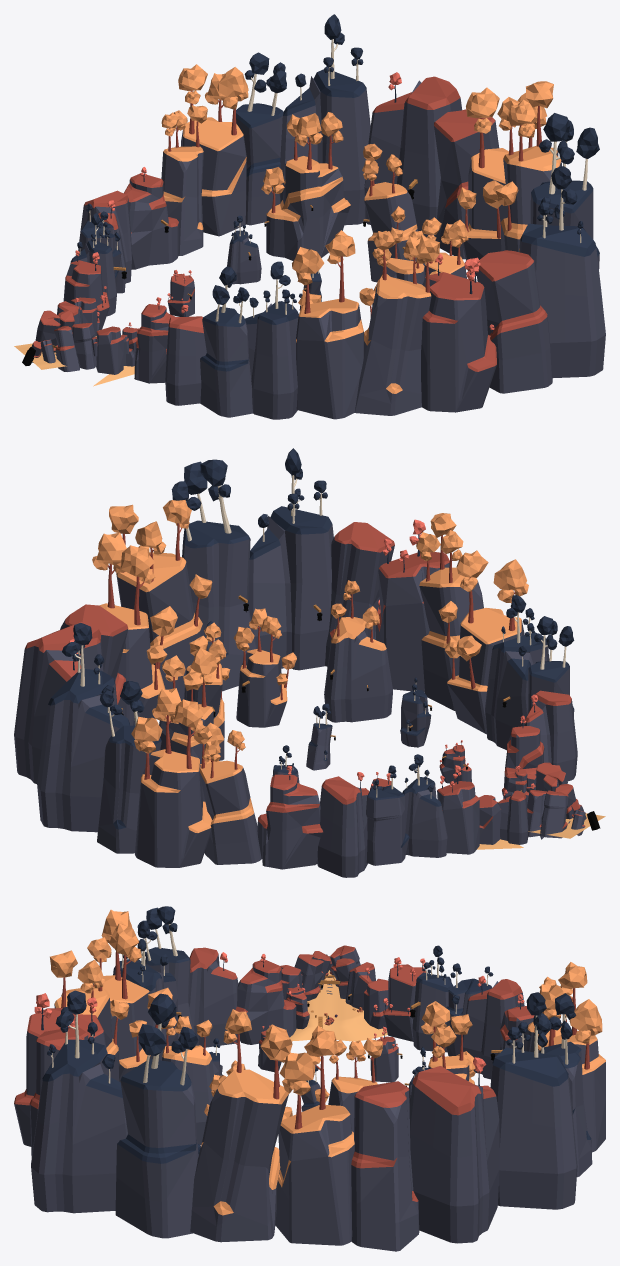
Rendered from beachside 1.fbx.
The picture shows the model from 3 angles, top to bottom: view 1: azimuth 30°, elevation 25°; view 2: azimuth 150°, elevation 25°; view 3: azimuth 270°, elevation 25°; orthographic projection. The views are drawn at different scales.
Visible parts, largest first — view 1: Middle3.002, rock_lp_09.004, Inner1.002, Outer1.001, rock_lp_08.001, rock_lp_09.005, Middle3.003, rock_lp_11.002, Outer1.003, Middle3.001, Middle2.001, Outer1.002 (+23 smaller); view 2: Middle3.002, Middle3.003, Outer1.003, Middle2.002, rock_lp_09.006, Outer1.001, Outer2, rock_lp_09.004, Inner1.002, Outer1.002, rock_lp_11.002, rock_lp_09.008 (+23 smaller); view 3: rock_lp_09.006, Middle3.002, Middle2.002, rock_lp_11.002, Middle3.003, Outer1.002, rock_lp_09.007, Outer1.003, Outer1.001, rock_lp_11.001, rock_lp_09.004, rock_lp_08.002 (+23 smaller).
Part boxes in pixels (x1,y1,x2,y2): Middle3.002: (519, 166, 605, 378); rock_lp_09.004: (354, 231, 439, 415); Inner1.002: (421, 254, 496, 412); Outer1.001: (292, 230, 363, 419); rock_lp_08.001: (261, 112, 350, 260); rock_lp_09.005: (476, 250, 552, 393); Middle3.003: (279, 14, 370, 225); rock_lp_11.002: (364, 72, 462, 237); Outer1.003: (178, 64, 248, 236); Middle3.001: (245, 261, 298, 419); Middle2.001: (200, 266, 252, 417); Outer1.002: (457, 87, 546, 275); Middle3.002: (248, 448, 333, 670); Middle3.003: (37, 623, 130, 832); Outer1.003: (131, 688, 212, 867); Middle2.002: (171, 459, 257, 691); rock_lp_09.006: (109, 500, 212, 700); Outer1.001: (444, 550, 528, 733); Outer2: (324, 580, 392, 722); rock_lp_09.004: (416, 513, 483, 710); Inner1.002: (375, 519, 449, 692); Outer1.002: (92, 532, 177, 725); rock_lp_11.002: (14, 622, 103, 783); rock_lp_09.008: (193, 726, 261, 864); rock_lp_09.006: (190, 1009, 292, 1242); Middle3.002: (31, 990, 127, 1213); Middle2.002: (115, 993, 200, 1238); rock_lp_11.002: (409, 1057, 499, 1243); Middle3.003: (490, 992, 577, 1209); Outer1.002: (275, 1026, 354, 1245); rock_lp_09.007: (351, 1081, 419, 1251); Outer1.003: (538, 962, 605, 1152); Outer1.001: (93, 909, 172, 1081); rock_lp_11.001: (189, 947, 238, 1047); rock_lp_09.004: (50, 937, 129, 1081); rock_lp_08.002: (235, 954, 296, 1044).
Bounding box in the file's own units: 85343 × 33906 × 80451.
